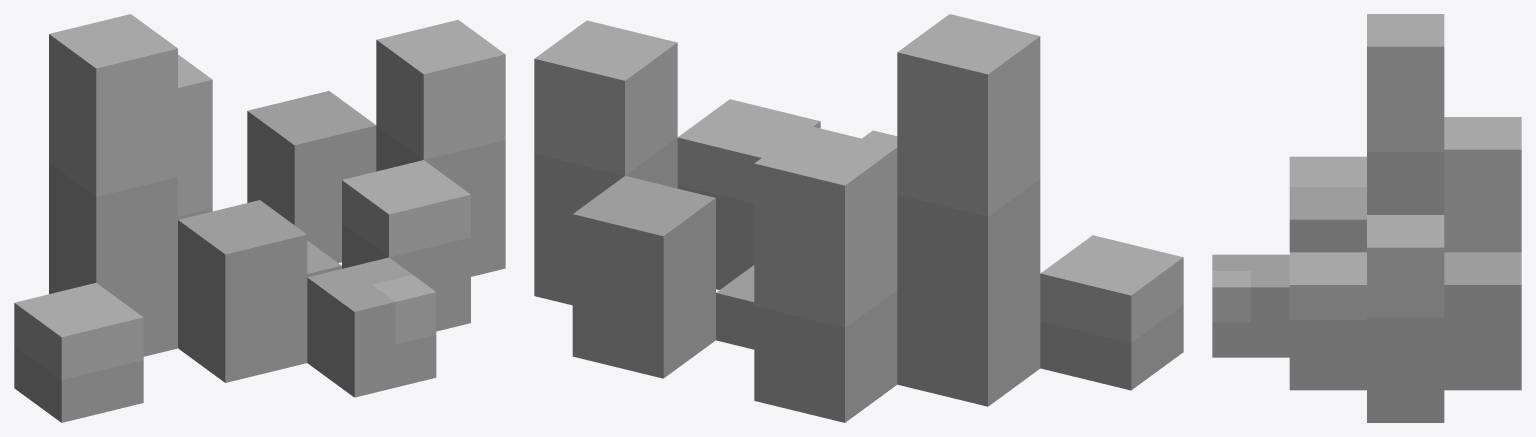
Rendered from enoki_2.obj.
3 views of the same model, side by side, from view 1: azimuth 30°, elevation 25°; view 2: azimuth 150°, elevation 25°; view 3: azimuth 270°, elevation 25° (orthographic). The views are drawn at different scales.
Size of the model in its own units: 1.2 by 0.7 by 0.8.
1 material, 1 textured.
